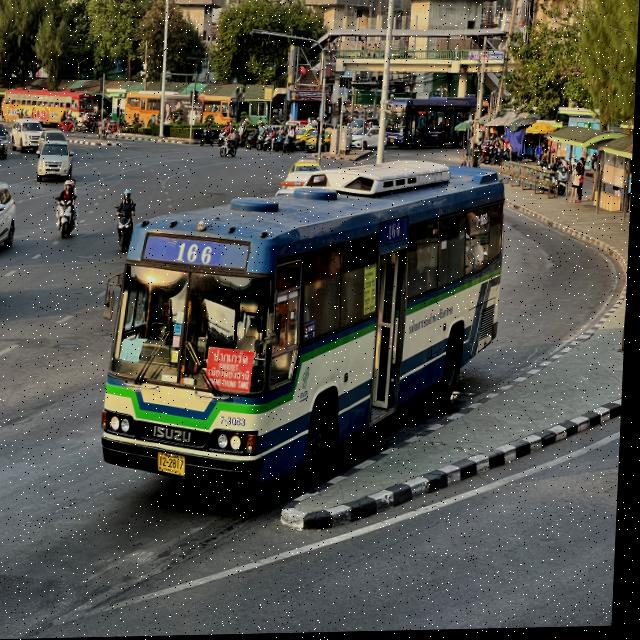BMTA-bus: (101, 158, 510, 496)
Bus-Line-Number: (170, 235, 223, 272)
Destination-Sign-Extra-Bus: (207, 344, 257, 397)
